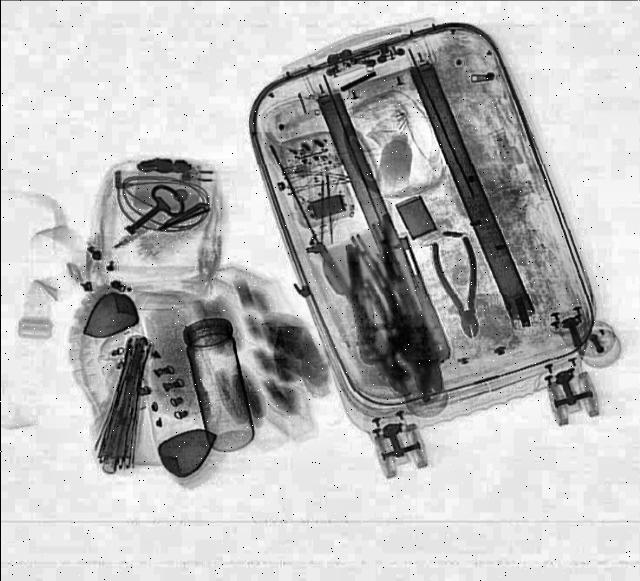Pliers: (426, 237, 492, 340)
